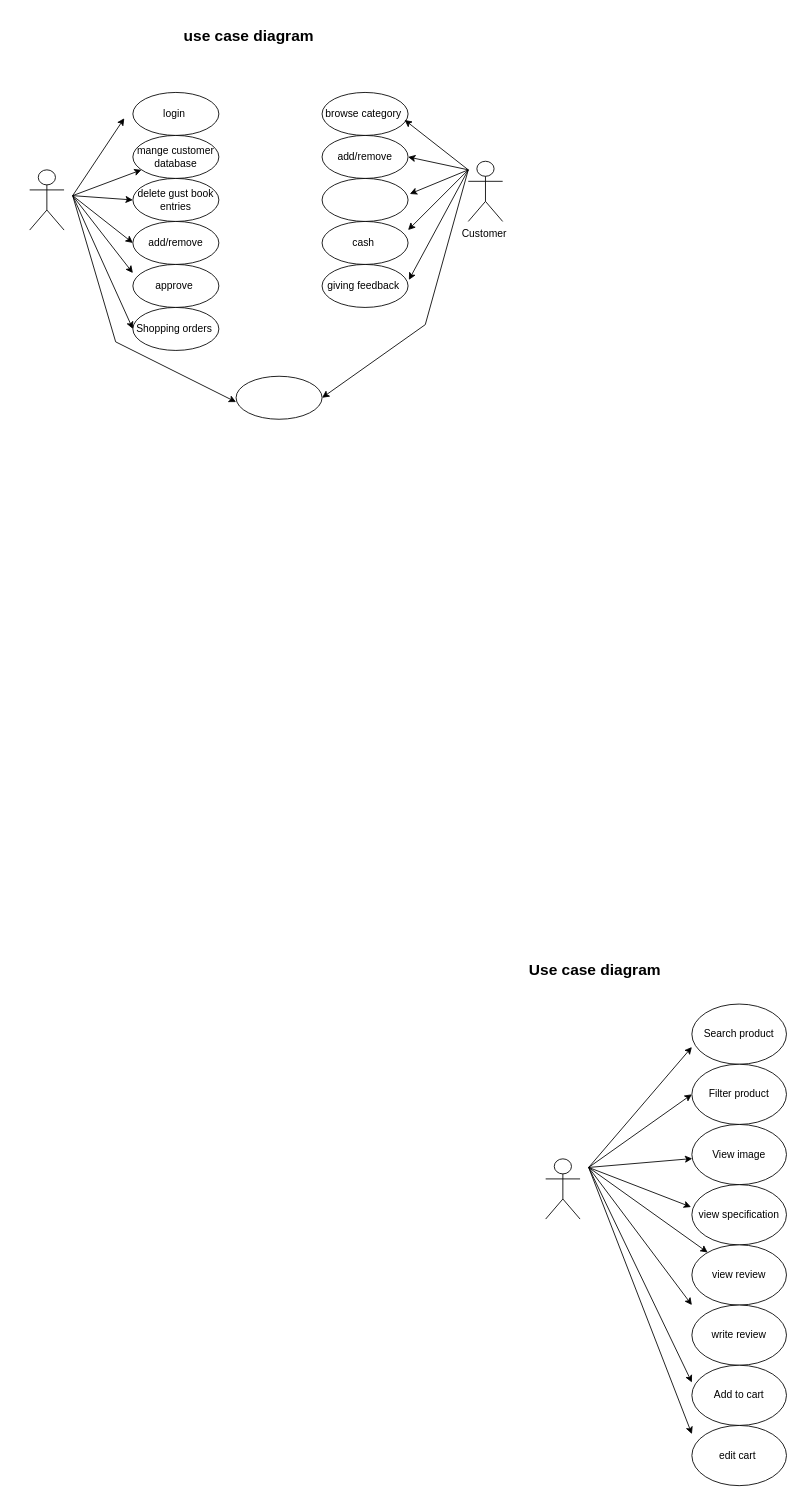
Some shapes in this 802 by 1501 pixel diagram are drawn without their labels. The shapes that lost their labels are listed below. From the top down, each one's box as (x1, y1, x2, y2) in pixels, then its label:
(29, 169, 64, 230): Administrator
(321, 178, 408, 221): payment
(235, 375, 322, 419): logout
(545, 1158, 580, 1219): user
